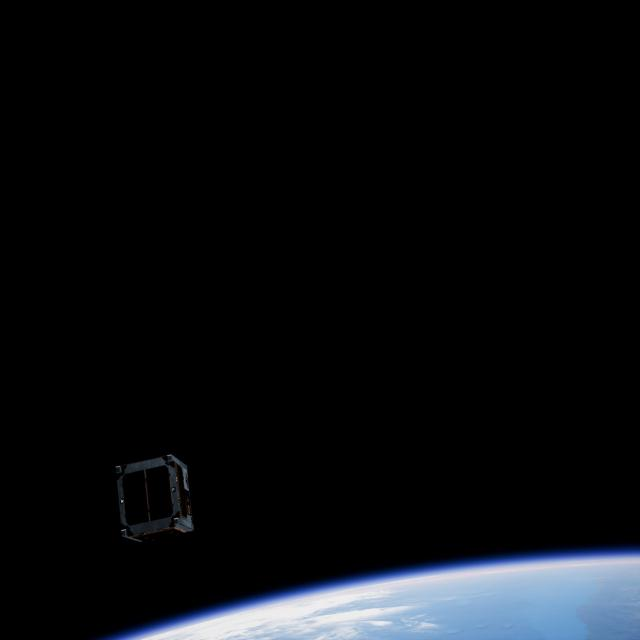medium_debris: (113, 452, 192, 540)
